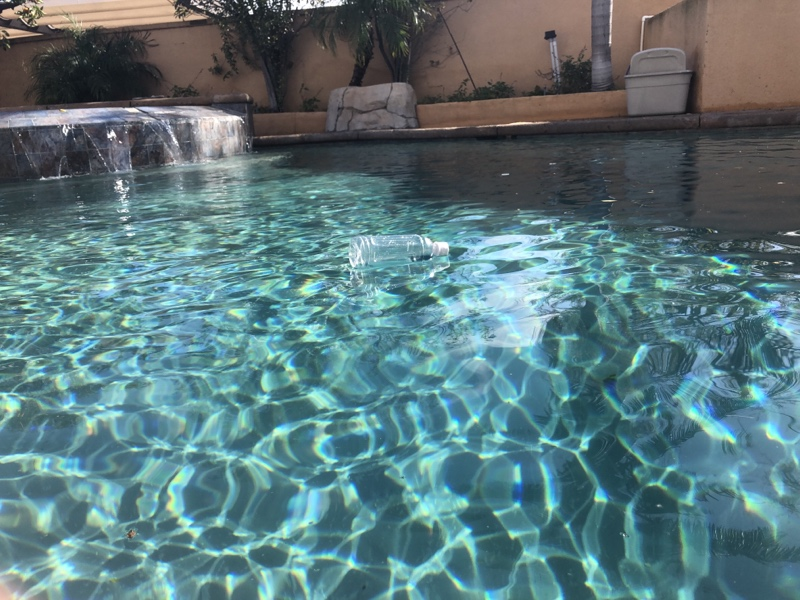Plastic Bottle: (347, 230, 454, 270)
